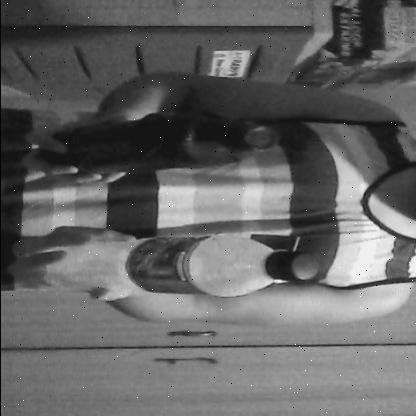Plastic Bottle: (23, 228, 338, 306)
